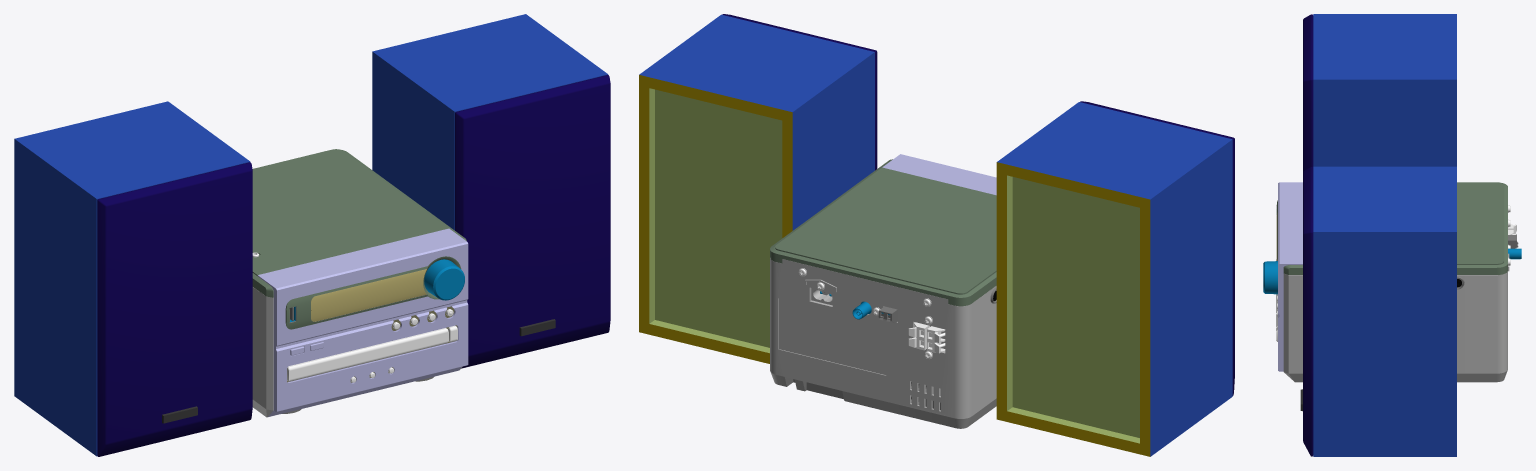
Rendered from Panasonic_SA-PM02.fbx.
3 renders of one model, left to right at view 1: azimuth 30°, elevation 25°; view 2: azimuth 150°, elevation 25°; view 3: azimuth 270°, elevation 25°, orthographic. The views are drawn at different scales.
Parts seen in each view (by area): view 1: panasonic_sa-pm02_speaker-l, panasonic_sa-pm02_speaker-r, panasonic_sa-pm02_player; view 2: panasonic_sa-pm02_speaker-l, panasonic_sa-pm02_speaker-r, panasonic_sa-pm02_player; view 3: panasonic_sa-pm02_speaker-r, panasonic_sa-pm02_speaker-l, panasonic_sa-pm02_player.
Boxes of the visible parts, box(x1,y1,x2,y2) form: panasonic_sa-pm02_speaker-l: box(14, 101, 252, 456); panasonic_sa-pm02_speaker-r: box(372, 14, 610, 368); panasonic_sa-pm02_player: box(252, 149, 468, 417); panasonic_sa-pm02_speaker-l: box(996, 101, 1234, 456); panasonic_sa-pm02_speaker-r: box(639, 14, 877, 363); panasonic_sa-pm02_player: box(770, 154, 996, 428); panasonic_sa-pm02_speaker-r: box(1300, 166, 1456, 456); panasonic_sa-pm02_speaker-l: box(1303, 14, 1456, 171); panasonic_sa-pm02_player: box(1263, 182, 1521, 382).
Size of the model in its own units: 0.4594 by 0.222 by 0.23.
